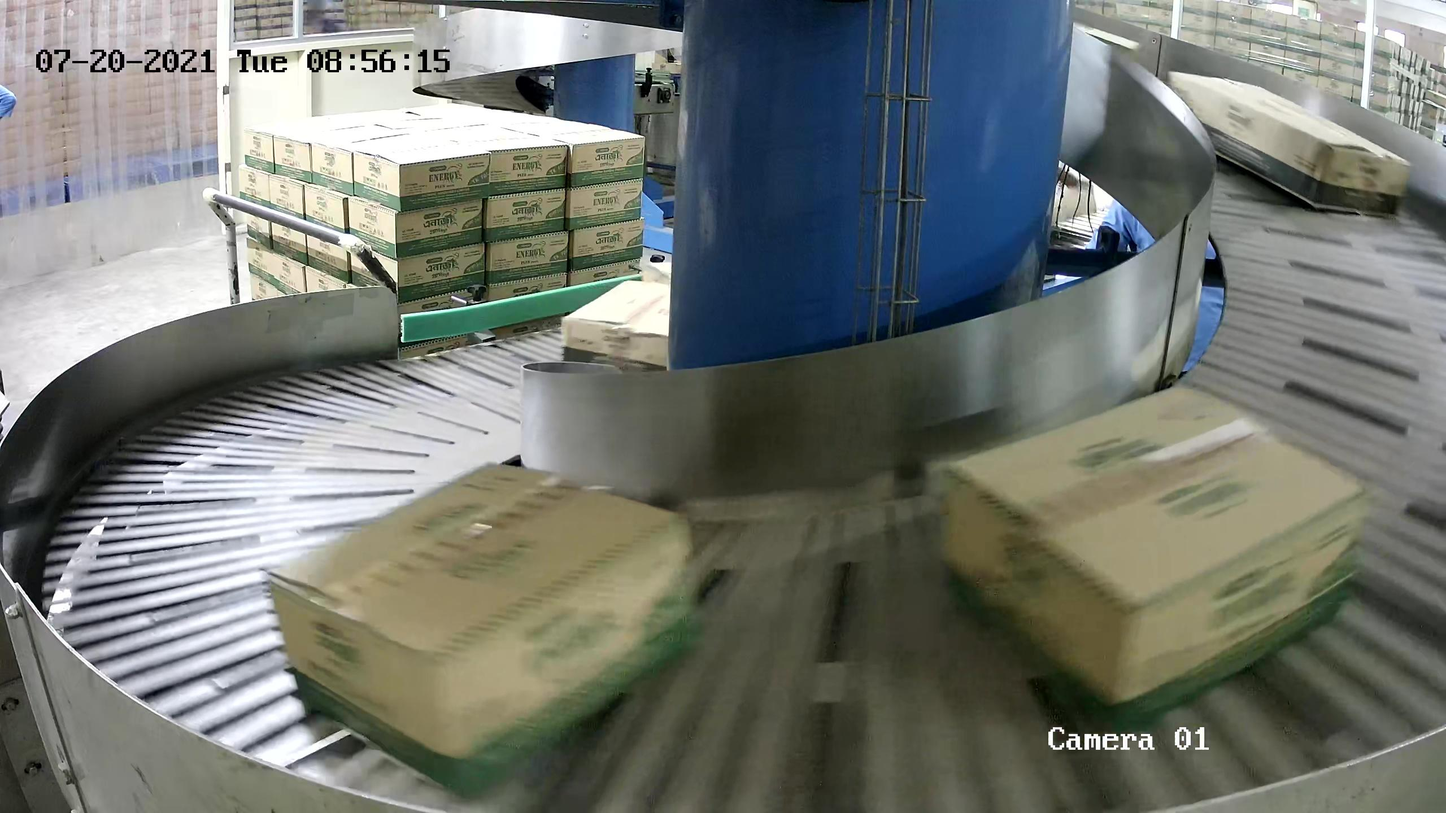Box: (931, 380, 1373, 734), (262, 457, 709, 796), (1164, 69, 1415, 220), (561, 277, 705, 395)
